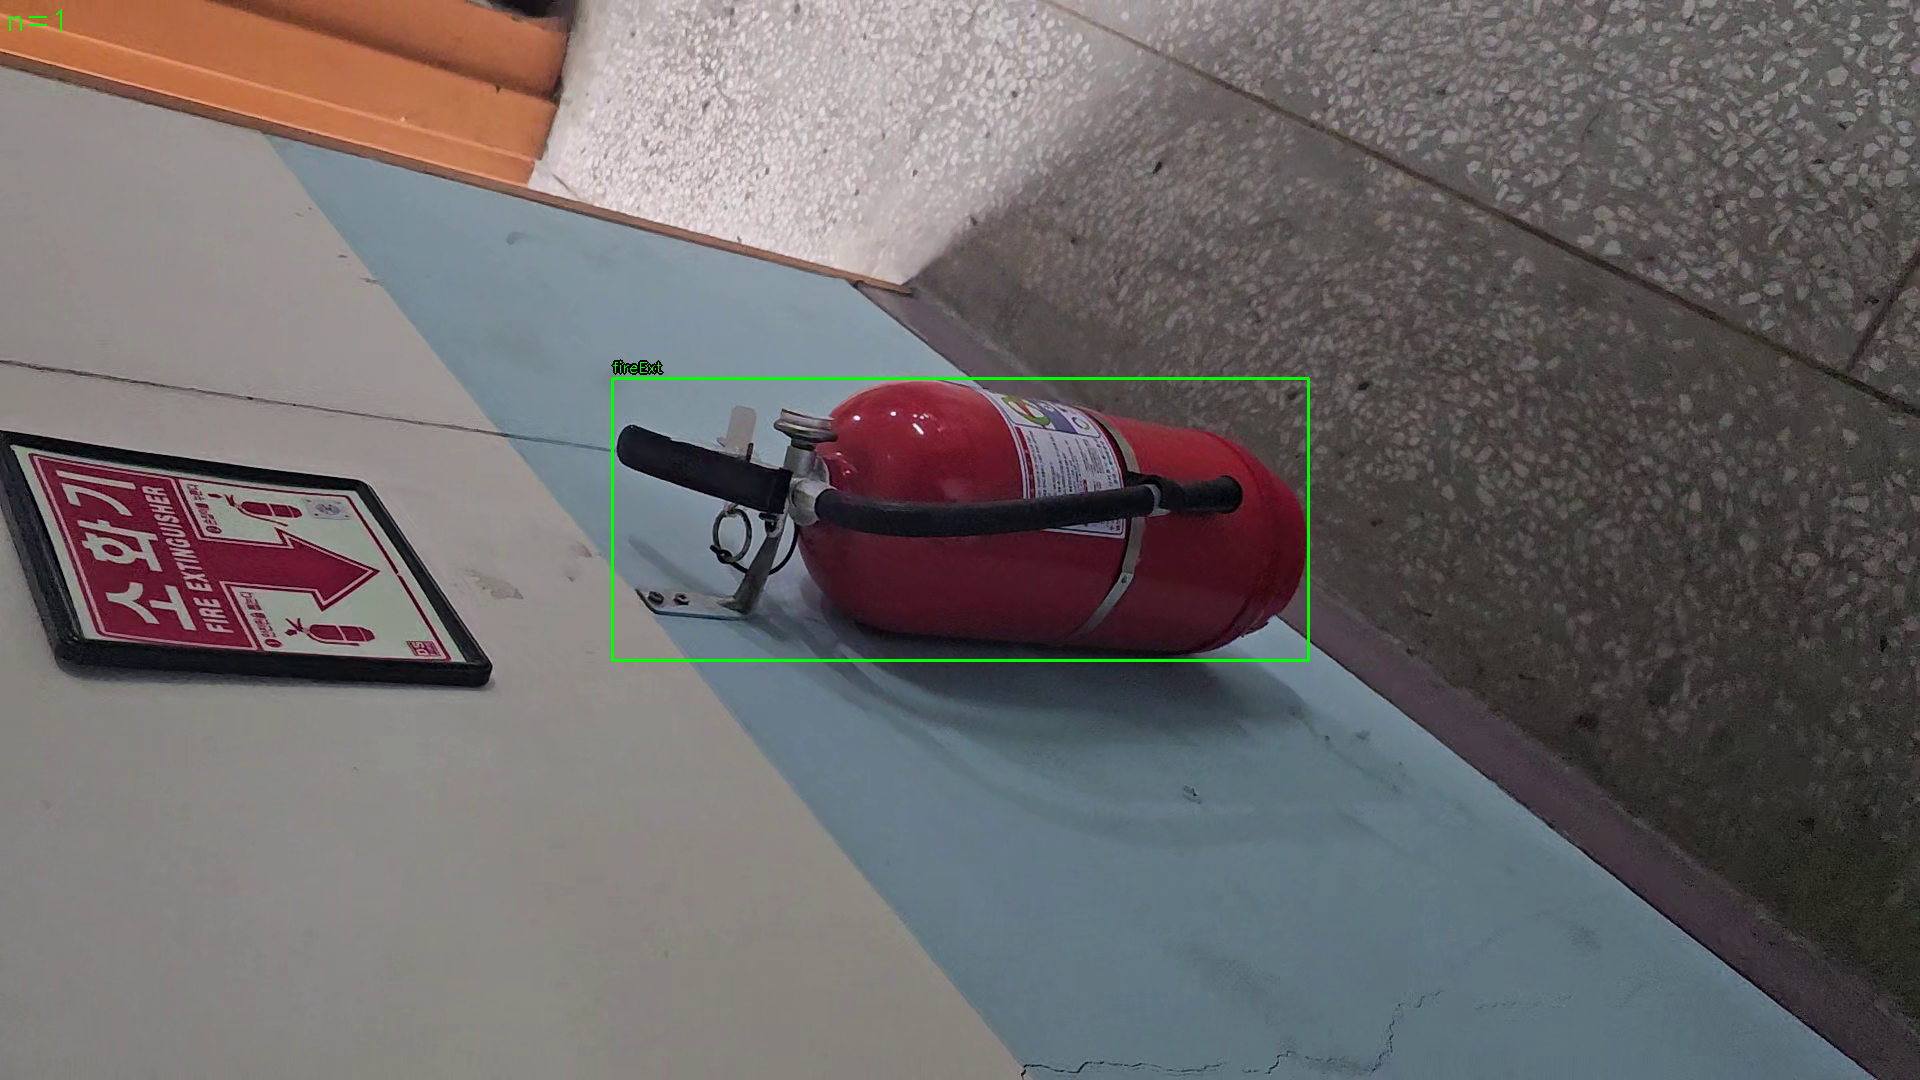lane: (612, 378, 1309, 661)
